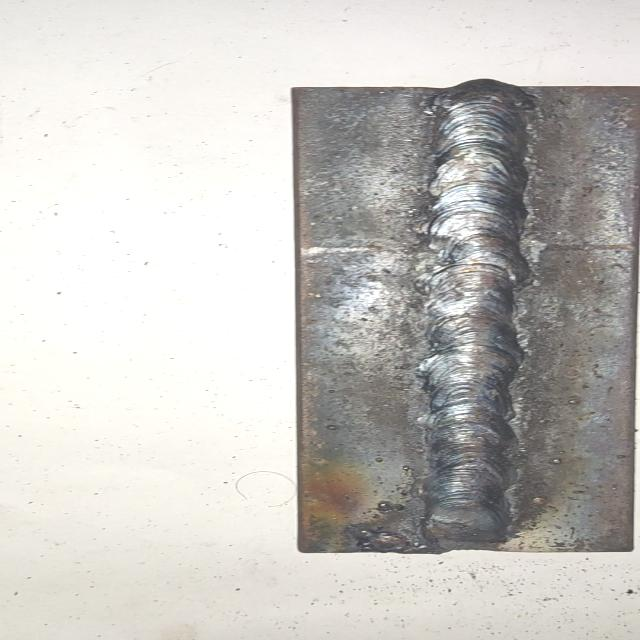Good Weld: (412, 93, 528, 542)
